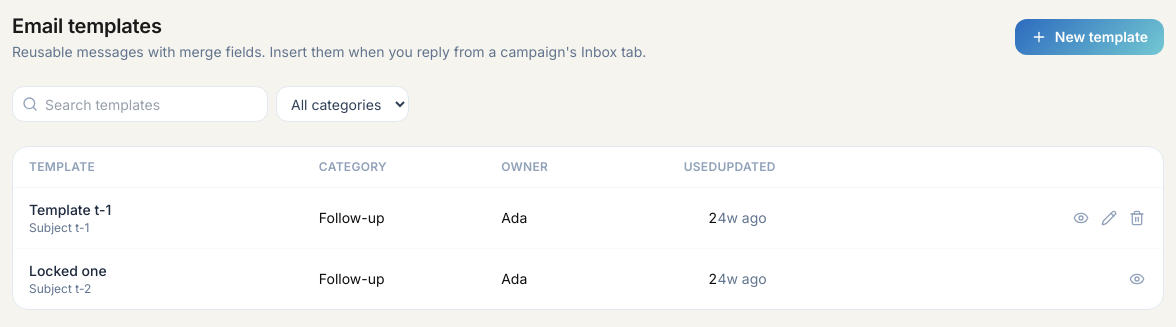
Test: TemplateLibrary page › searches on the server
Expected: the text "Template t-1" is shown, [29,201,111,218]
Type "locked" into the field with placeholder "Search templates" at {"x": 140, "y": 104}, box [12,86,268,122]
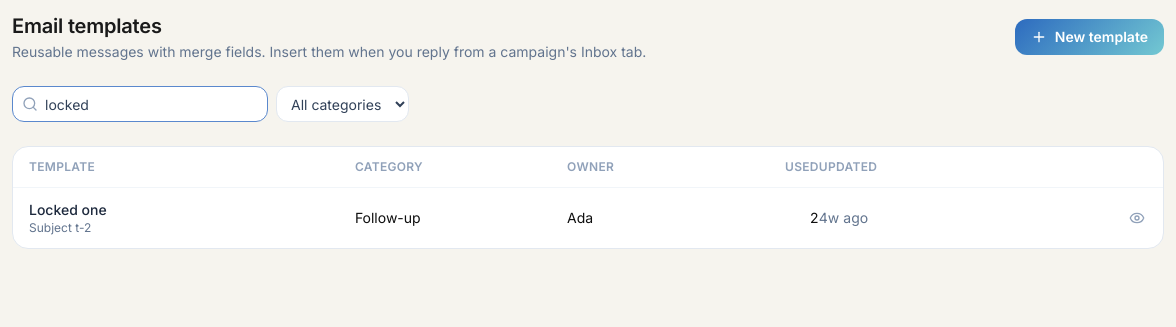
Expected: the text "Locked one" is shown, [29,201,107,218]
Expected: the text "Template t-1" is gone
